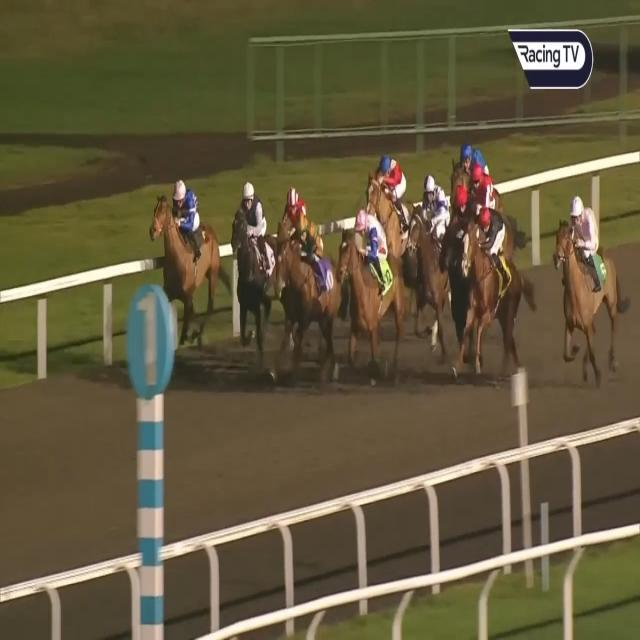horses-racing: (555, 198, 627, 370), (339, 221, 412, 387), (154, 180, 222, 342), (458, 207, 522, 366), (278, 219, 344, 351), (230, 183, 278, 348), (407, 179, 452, 324), (357, 151, 416, 249), (269, 183, 320, 282), (436, 186, 481, 279), (466, 160, 511, 208), (451, 144, 487, 197)
